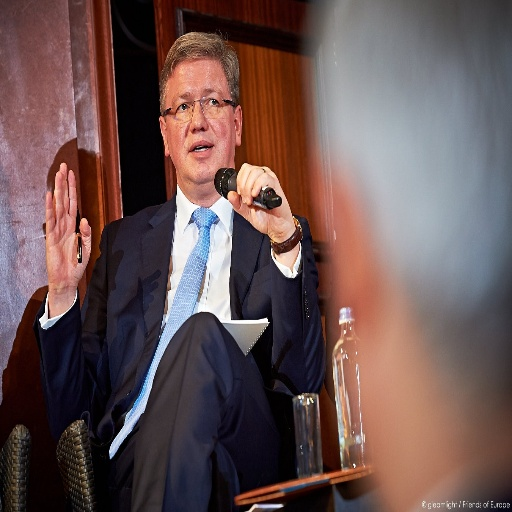hand: (36, 141, 88, 312), (224, 160, 291, 244)
